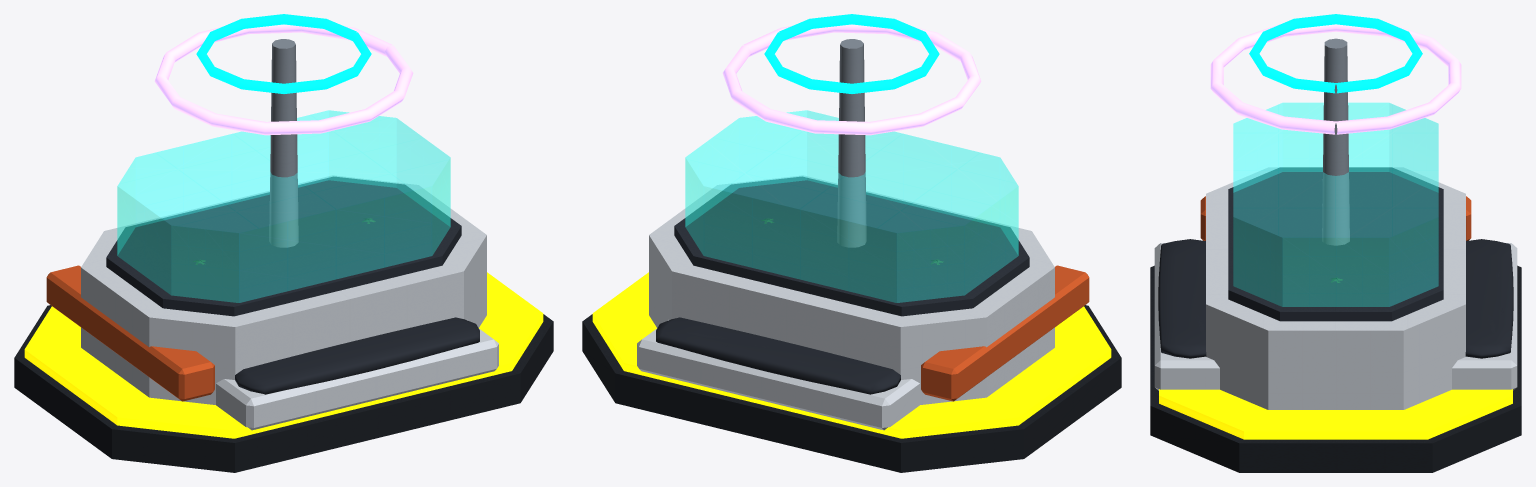
Rendered from prop_set_04_civic_planter_bench_pod.glb.
3 renders of one model, left to right at view 1: azimuth 30°, elevation 25°; view 2: azimuth 150°, elevation 25°; view 3: azimuth 270°, elevation 25°, orthographic.
Visible parts, largest first — view 1: Prop04_glass_emerald, Prop04_aero_white, Prop04_carbon_slate, Prop04_gunmetal, Prop04_led_amber, Prop04_pad_charcoal, Prop04_led_uv, Prop04_accent_orange, Prop04_steel_machined, Prop04_led_cyan; view 2: Prop04_glass_emerald, Prop04_aero_white, Prop04_carbon_slate, Prop04_gunmetal, Prop04_led_amber, Prop04_pad_charcoal, Prop04_led_uv, Prop04_accent_orange, Prop04_steel_machined, Prop04_led_cyan; view 3: Prop04_glass_emerald, Prop04_aero_white, Prop04_carbon_slate, Prop04_gunmetal, Prop04_led_amber, Prop04_pad_charcoal, Prop04_led_uv, Prop04_steel_machined, Prop04_led_cyan, Prop04_accent_orange.
Boxes of the visible parts, x1,y1,x2,y2 form: Prop04_glass_emerald: (117,110,450,302); Prop04_aero_white: (81,175,498,430); Prop04_carbon_slate: (106,176,461,316); Prop04_gunmetal: (14,305,553,472); Prop04_led_amber: (24,272,543,438); Prop04_pad_charcoal: (235,317,479,394); Prop04_led_uv: (154,24,413,135); Prop04_accent_orange: (46,265,214,401); Prop04_steel_machined: (269,39,298,247); Prop04_led_cyan: (196,14,371,93); Prop04_glass_emerald: (685,110,1018,302); Prop04_aero_white: (637,175,1054,430); Prop04_carbon_slate: (674,176,1029,316); Prop04_gunmetal: (582,305,1121,472); Prop04_led_amber: (592,272,1111,438); Prop04_pad_charcoal: (656,317,900,394); Prop04_led_uv: (722,24,981,135); Prop04_accent_orange: (921,265,1089,401); Prop04_steel_machined: (837,39,866,247); Prop04_led_cyan: (764,14,939,93); Prop04_glass_emerald: (1233,102,1438,306); Prop04_aero_white: (1154,167,1517,409); Prop04_carbon_slate: (1228,167,1443,321); Prop04_gunmetal: (1150,265,1521,472); Prop04_led_amber: (1159,389,1512,439); Prop04_pad_charcoal: (1158,239,1513,358); Prop04_led_uv: (1210,23,1461,134); Prop04_steel_machined: (1322,38,1349,245); Prop04_led_cyan: (1249,14,1422,93); Prop04_accent_orange: (1200,196,1471,240).
Bounding box in the file's own units: 3.4 × 2.39 × 2.5.
Materials: 11 (11 with a texture image).
